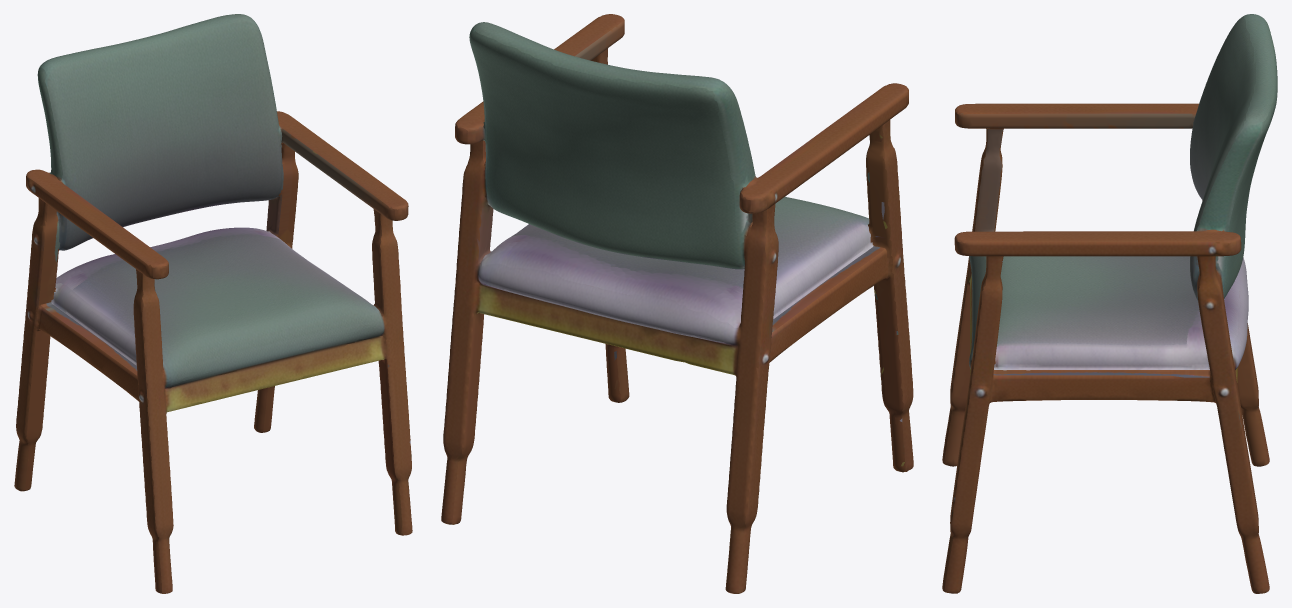
File: chair__chair#2.glb
The picture shows the model from 3 angles, left to right: view 1: azimuth 30°, elevation 25°; view 2: azimuth 150°, elevation 25°; view 3: azimuth 270°, elevation 25°; orthographic projection. The views are drawn at different scales.
Visible parts, largest first — view 1: tmpru2v0tpd.ply; view 2: tmpru2v0tpd.ply; view 3: tmpru2v0tpd.ply.
Boxes of the visible parts, box(x1,y1,x2,y2) form: tmpru2v0tpd.ply: box(14, 14, 412, 593); tmpru2v0tpd.ply: box(441, 14, 913, 593); tmpru2v0tpd.ply: box(942, 14, 1277, 593).
Size of the model in its own units: 1.3 by 1.99 by 1.31.
1 material, 1 textured.
